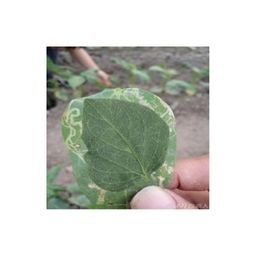liriomyza: (111, 86, 176, 134), (61, 98, 88, 164), (85, 181, 107, 204), (156, 160, 173, 188)
